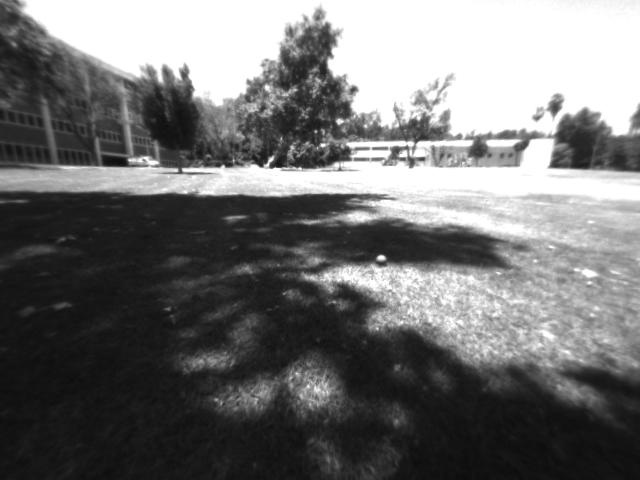dogtoy: (373, 252, 391, 266)
